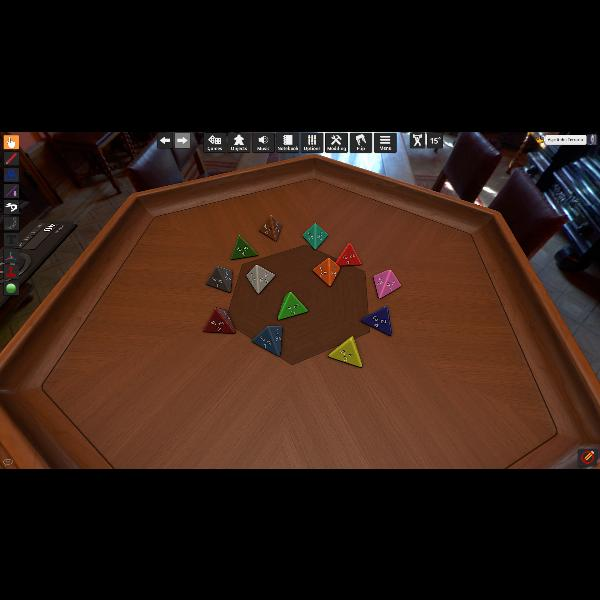d4: (328, 335, 361, 366), (252, 326, 282, 357), (361, 305, 392, 335), (246, 264, 274, 294), (204, 308, 236, 334), (372, 269, 399, 299), (278, 291, 306, 319), (313, 256, 339, 286), (207, 264, 233, 292), (231, 235, 257, 260), (335, 242, 361, 266), (302, 223, 324, 249), (260, 214, 282, 240)
